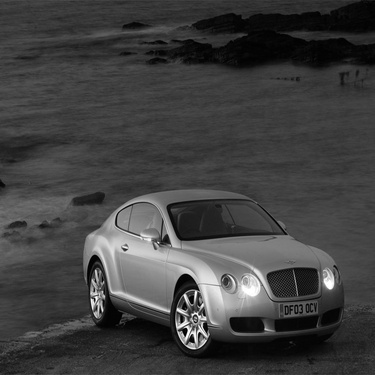car: (76, 179, 349, 360)
